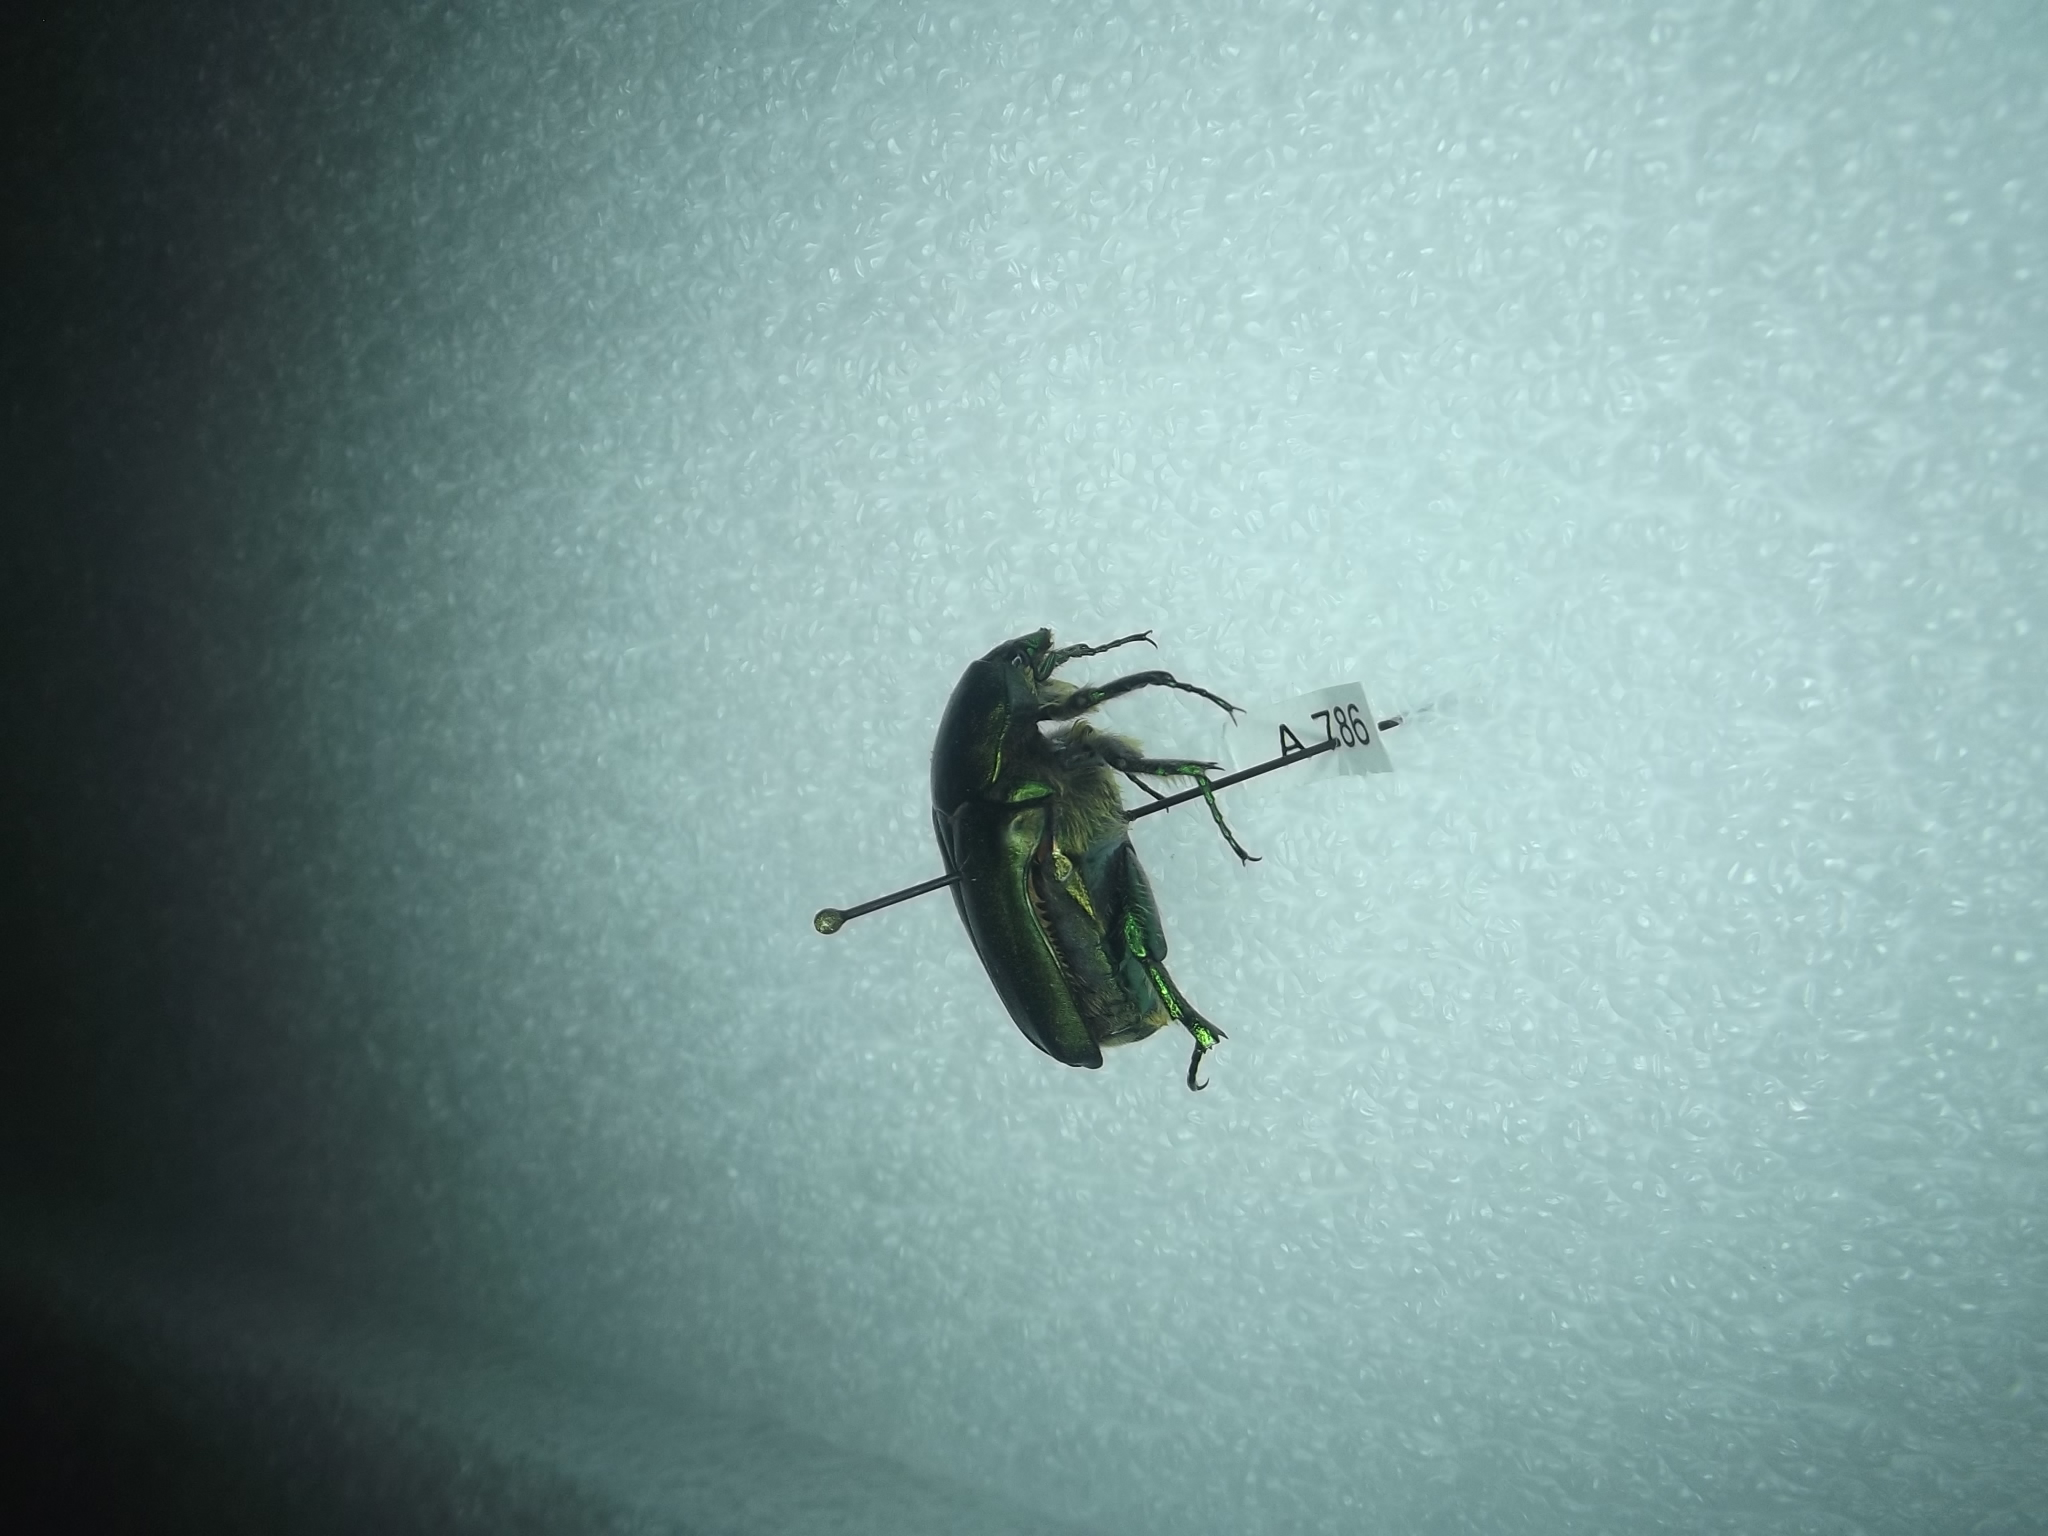Protaetia_ungarica_americana: (916, 573, 1276, 1102)
